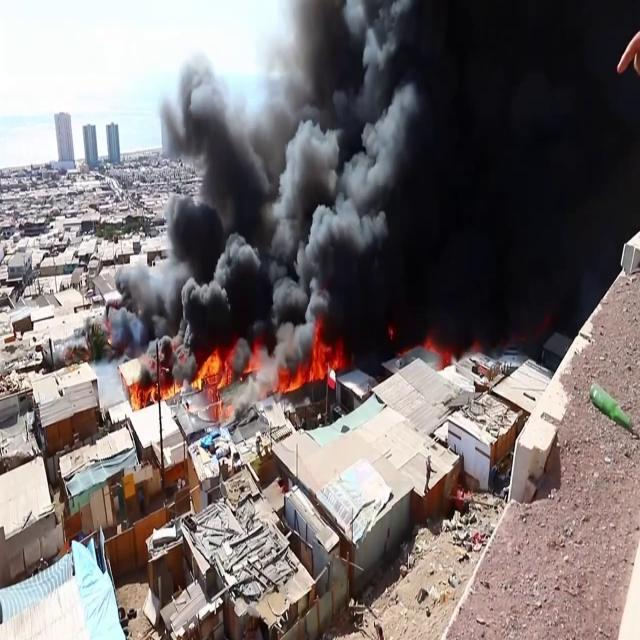Fire: (276, 325, 344, 399), (193, 343, 234, 397)
Smoke: (113, 1, 640, 358)
